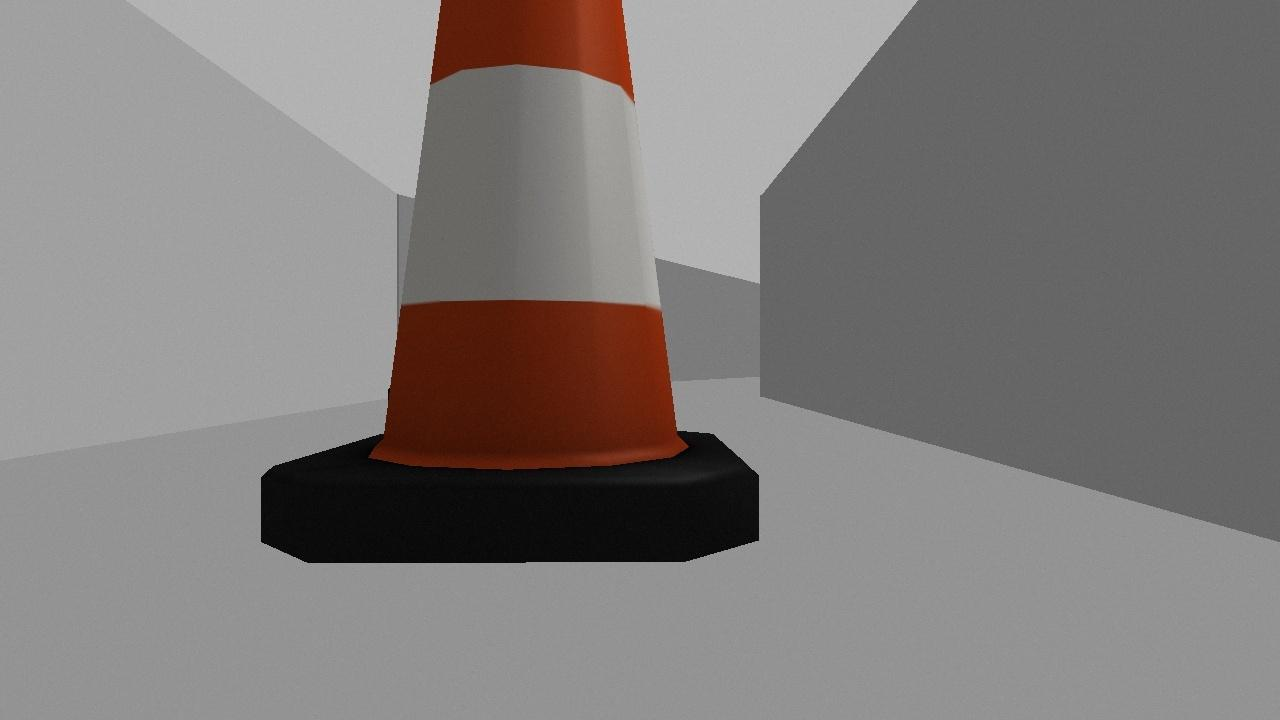cone_barrel: (228, 0, 780, 585)
